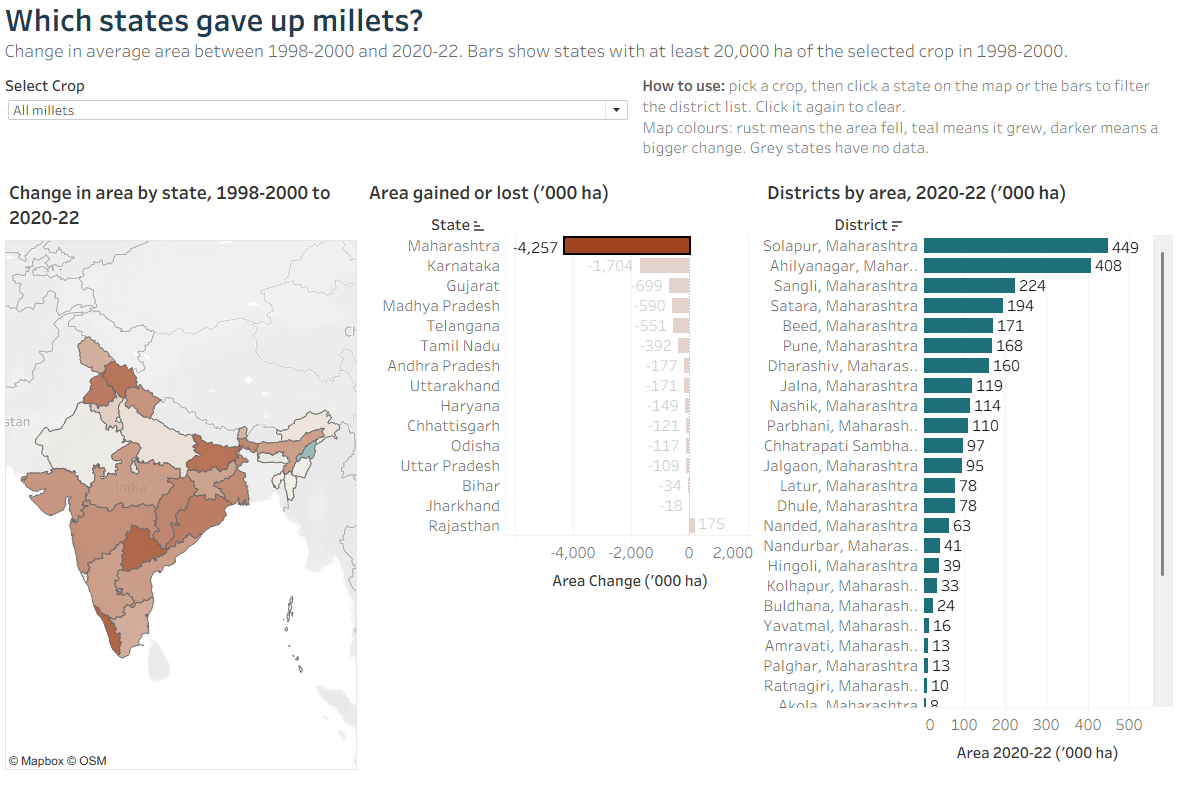

The page's visual inventory and layout, read from the dashboard file:
{"tool":"tableau","page":{"name":"States","canvas":[1200,800],"ordinal":1},"visuals":[{"type":"text","box":[0,0,1200,76]},{"type":"parameter","param":"[Parameters].[Select Crop]","box":[0,76,300,64]},{"type":"text","box":[300,76,900,64]},{"type":"worksheet","title":"State Map","mark":"Multipolygon","box":[0,140,456,660]},{"type":"worksheet","title":"States Ranked","mark":"Bar","rows":["state"],"cols":["Area Change k"],"box":[456,140,372,660]},{"type":"worksheet","title":"Top Districts","mark":"Bar","rows":["District Label"],"cols":["Area End k"],"box":[828,140,372,660]}]}

Visuals, with their boxes in screenshot pixels (x1, y1, x2, y2), scaled from the page's 1200x800 canvas onto the 1188x798 screenshot:
text: box=[0, 0, 1187, 76]
parameter: box=[0, 76, 297, 140]
text: box=[297, 76, 1187, 140]
"State Map" worksheet (Multipolygon marks): box=[0, 140, 451, 797]
"States Ranked" worksheet (Bar marks): box=[451, 140, 820, 797]
"Top Districts" worksheet (Bar marks): box=[820, 140, 1187, 797]
